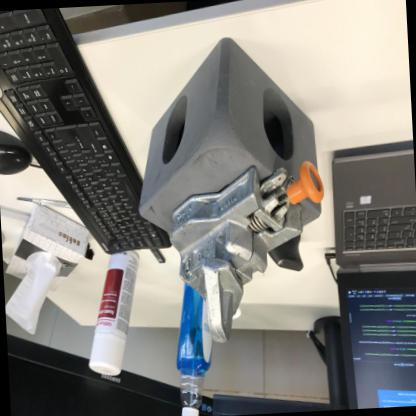CornerCasting: (129, 27, 332, 248)
Twistlock: (162, 155, 334, 351)
